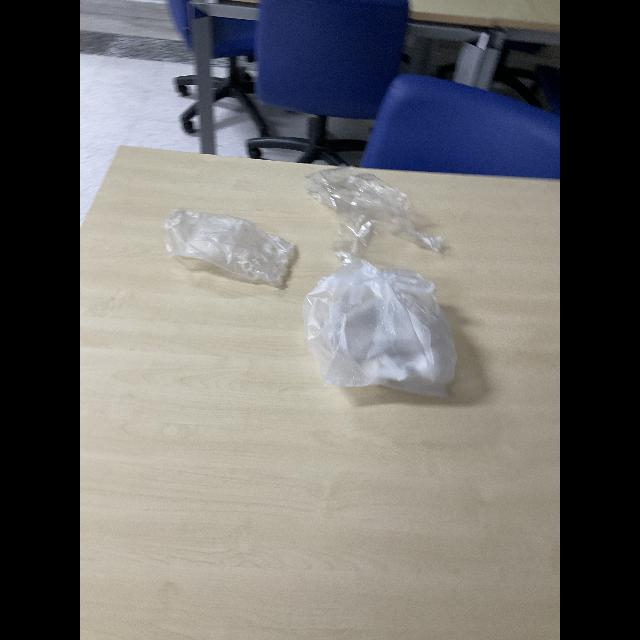plastic_bag: (296, 258, 468, 409), (296, 154, 452, 266), (159, 200, 303, 298)
